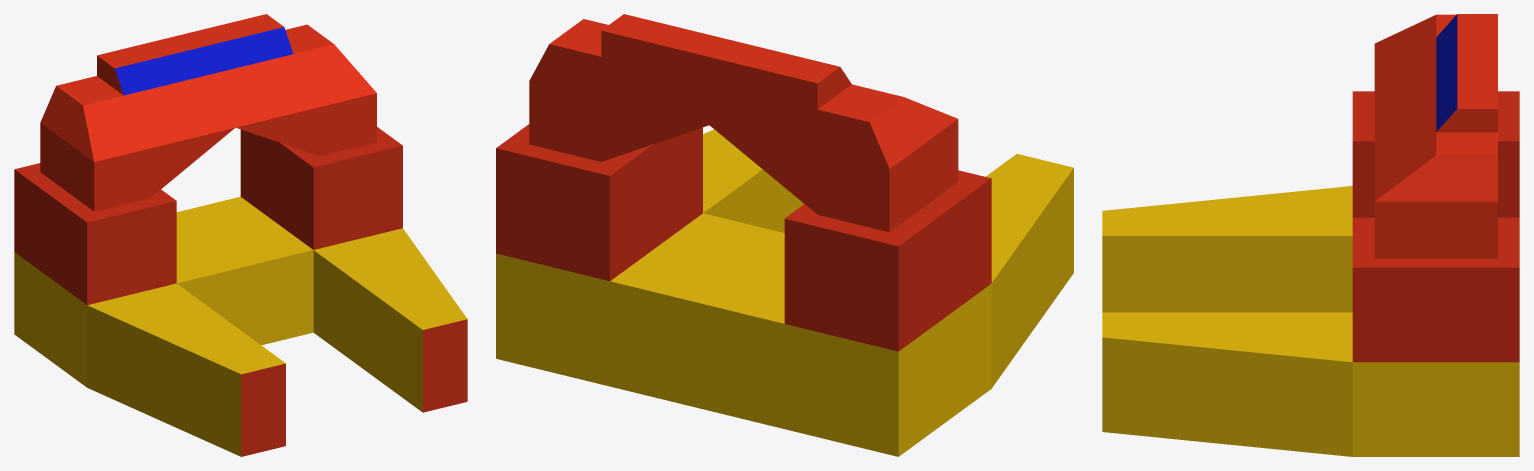
File: enemy_ship_small.fbx
The picture shows the model from 3 angles, left to right: view 1: azimuth 30°, elevation 25°; view 2: azimuth 150°, elevation 25°; view 3: azimuth 270°, elevation 25°; orthographic projection. The views are drawn at different scales.
Parts seen in each view (by area): view 1: enemy_ship_small.001; view 2: enemy_ship_small.001; view 3: enemy_ship_small.001.
Part boxes in pixels (x1,y1,x2,y2): enemy_ship_small.001: (14,14,467,456); enemy_ship_small.001: (496,14,1073,456); enemy_ship_small.001: (1102,14,1519,456).
Bounding box in the file's own units: 200 × 162 × 200.
